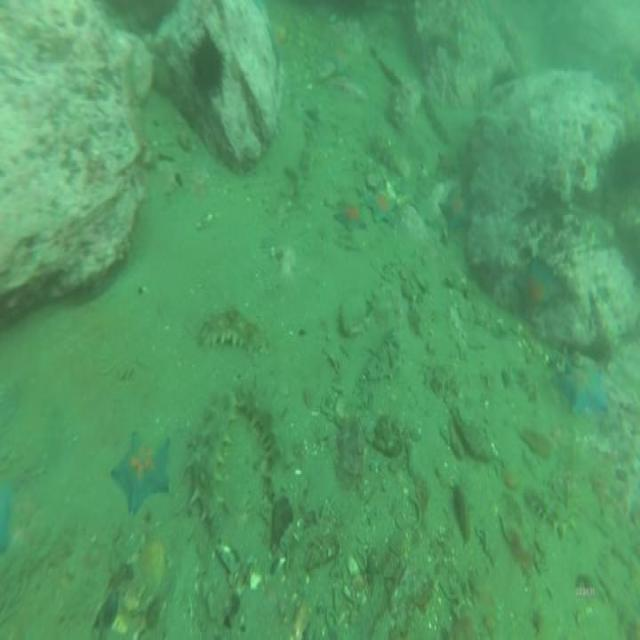echinus: (186, 22, 232, 104)
holothurian: (182, 389, 233, 545), (232, 376, 292, 474), (196, 306, 266, 362), (527, 474, 580, 544), (360, 318, 406, 379), (368, 126, 405, 182)
starfish: (110, 422, 172, 510), (548, 343, 608, 419), (516, 254, 564, 326), (439, 183, 478, 236), (363, 185, 402, 232), (262, 14, 292, 68), (336, 196, 367, 234)
